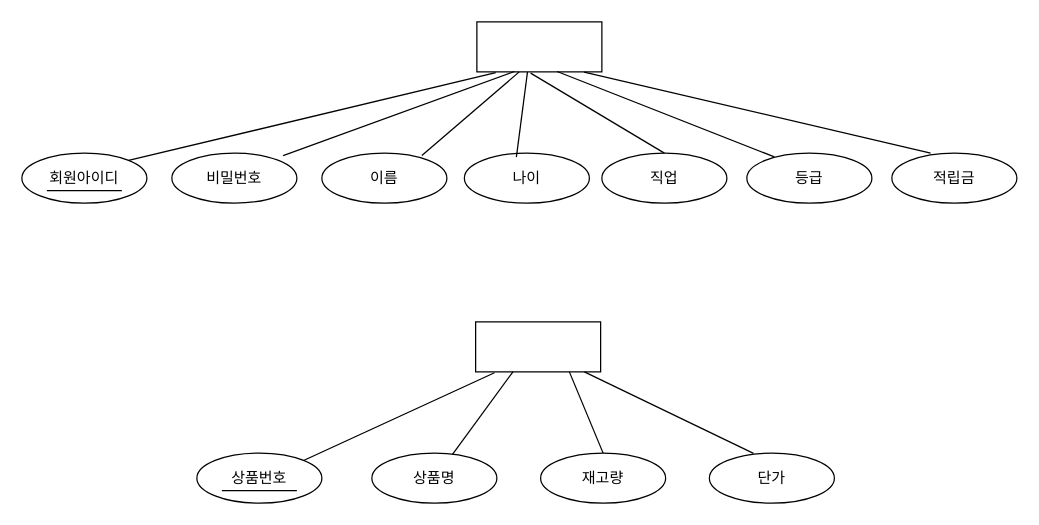
Image size: 1039x525. Some labels were removed from this diagram. Here are the shapes that lost their labels. From the top down, the centre of each, then its label:
At [539,46]: "회원".
At [537,346]: "상품".
